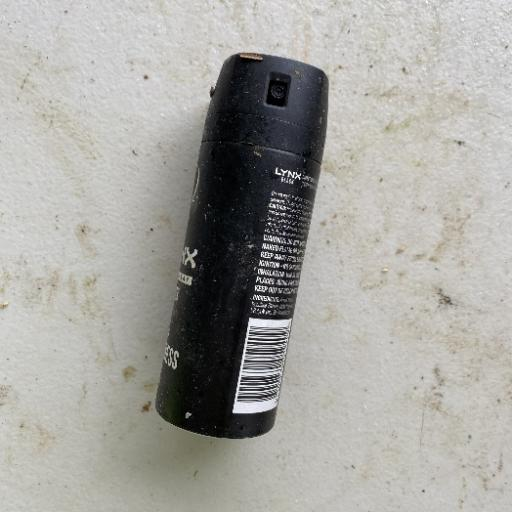Metal: (152, 50, 330, 440)
